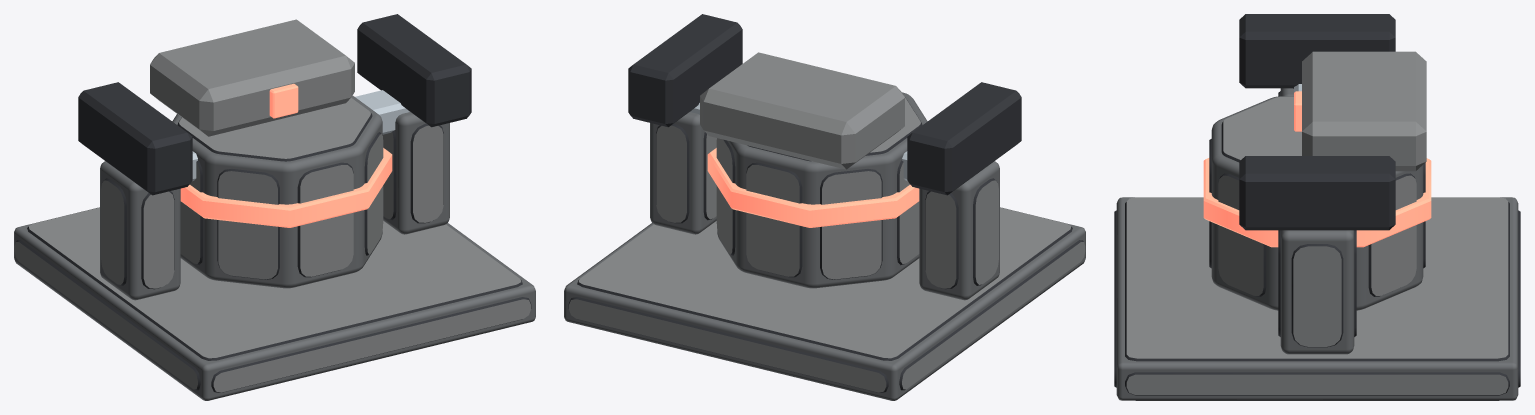
File: R4X_OffensiveTurretDeployer.glb
3 views of the same model, side by side, from view 1: azimuth 30°, elevation 25°; view 2: azimuth 150°, elevation 25°; view 3: azimuth 270°, elevation 25° (orthographic). The views are drawn at different scales.
Parts seen in each view (by area): view 1: R4X_OffensiveTurretDeployer_Body, R4X_OffensiveTurretDeployer_Pod; view 2: R4X_OffensiveTurretDeployer_Body, R4X_OffensiveTurretDeployer_Pod; view 3: R4X_OffensiveTurretDeployer_Body, R4X_OffensiveTurretDeployer_Pod.
Part boxes in pixels (x1,y1,x2,y2): R4X_OffensiveTurretDeployer_Body: [14, 14, 535, 400]; R4X_OffensiveTurretDeployer_Pod: [150, 19, 392, 288]; R4X_OffensiveTurretDeployer_Body: [564, 14, 1085, 400]; R4X_OffensiveTurretDeployer_Pod: [700, 52, 927, 288]; R4X_OffensiveTurretDeployer_Body: [1114, 14, 1520, 400]; R4X_OffensiveTurretDeployer_Pod: [1203, 51, 1431, 310].
Bounding box in the file's own units: 0.52 × 0.33 × 0.52.
